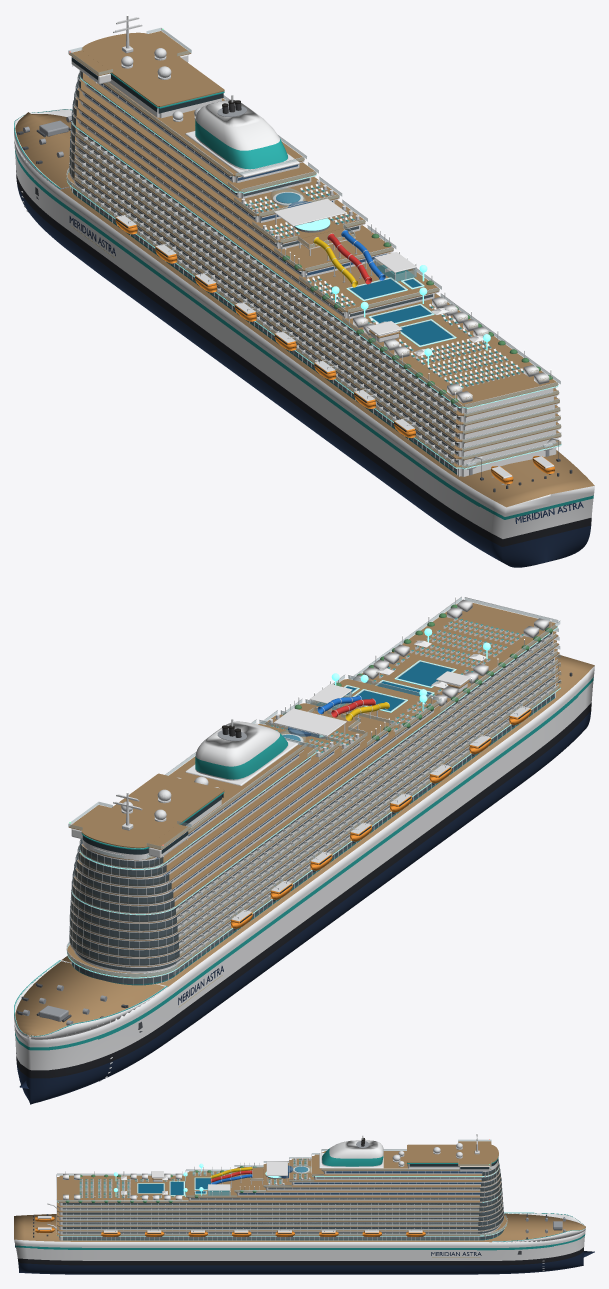
Rendered from MeridianAstra_CruiseShip.glb.
3 views of the same model, one above another, from view 1: azimuth 30°, elevation 25°; view 2: azimuth 150°, elevation 25°; view 3: azimuth 270°, elevation 25° (orthographic). The views are drawn at different scales.
Parts seen in each view (by area): view 1: Hull, Deck_08, Bridge_Deck, Funnel, Deck_09, Deck_10, Deck_11, Deck_12, Deck_13, Deck_06, Deck_07, AccentStripe_Port (+43 smaller); view 2: Hull, Deck_08, Bridge_Deck, Funnel, Deck_09, Deck_10, AccentStripe_Port, Deck_11, Deck_07, Deck_06, Deck_12, Deck_14 (+47 smaller); view 3: Hull, Deck_08, Superstructure_01, Bridge_Deck, PromenadeGlass_Stbd, Funnel, Deck_09, CabinWindows_06_Stbd, Deck_06, Deck_07, CabinWindows_05_Stbd, CabinWindows_04_Stbd (+74 smaller).
Boxes of the visible parts, x1,y1,x2,y2 form: Hull: [14, 112, 594, 567]; Deck_08: [73, 115, 558, 407]; Bridge_Deck: [81, 32, 224, 106]; Funnel: [195, 99, 288, 170]; Deck_09: [74, 106, 439, 313]; Deck_10: [75, 97, 393, 271]; Deck_11: [77, 88, 365, 243]; Deck_12: [79, 79, 339, 217]; Deck_13: [81, 73, 316, 192]; Deck_06: [72, 133, 559, 425]; Deck_07: [72, 125, 559, 416]; AccentStripe_Port: [17, 156, 479, 506]; Hull: [14, 655, 594, 1104]; Deck_08: [73, 603, 557, 914]; Bridge_Deck: [81, 773, 224, 848]; Funnel: [195, 721, 288, 780]; Deck_09: [74, 679, 438, 905]; Deck_10: [75, 703, 392, 896]; AccentStripe_Port: [98, 693, 578, 1039]; Deck_11: [77, 714, 364, 887]; Deck_07: [73, 631, 558, 923]; Deck_06: [72, 640, 559, 932]; Deck_12: [79, 724, 338, 878]; Deck_14: [82, 744, 303, 860]; Hull: [14, 1213, 585, 1274]; Deck_08: [57, 1175, 501, 1202]; Superstructure_01: [59, 1236, 489, 1240]; Bridge_Deck: [407, 1144, 498, 1162]; PromenadeGlass_Stbd: [63, 1236, 480, 1239]; Funnel: [321, 1140, 383, 1167]; Deck_09: [186, 1171, 501, 1197]; CabinWindows_06_Stbd: [62, 1212, 478, 1214]; Deck_06: [57, 1196, 502, 1212]; Deck_07: [57, 1191, 501, 1207]; CabinWindows_05_Stbd: [62, 1217, 478, 1219]; CabinWindows_04_Stbd: [62, 1222, 478, 1224].
Bounding box in the file's own units: 49.2 × 90.66 × 360.
